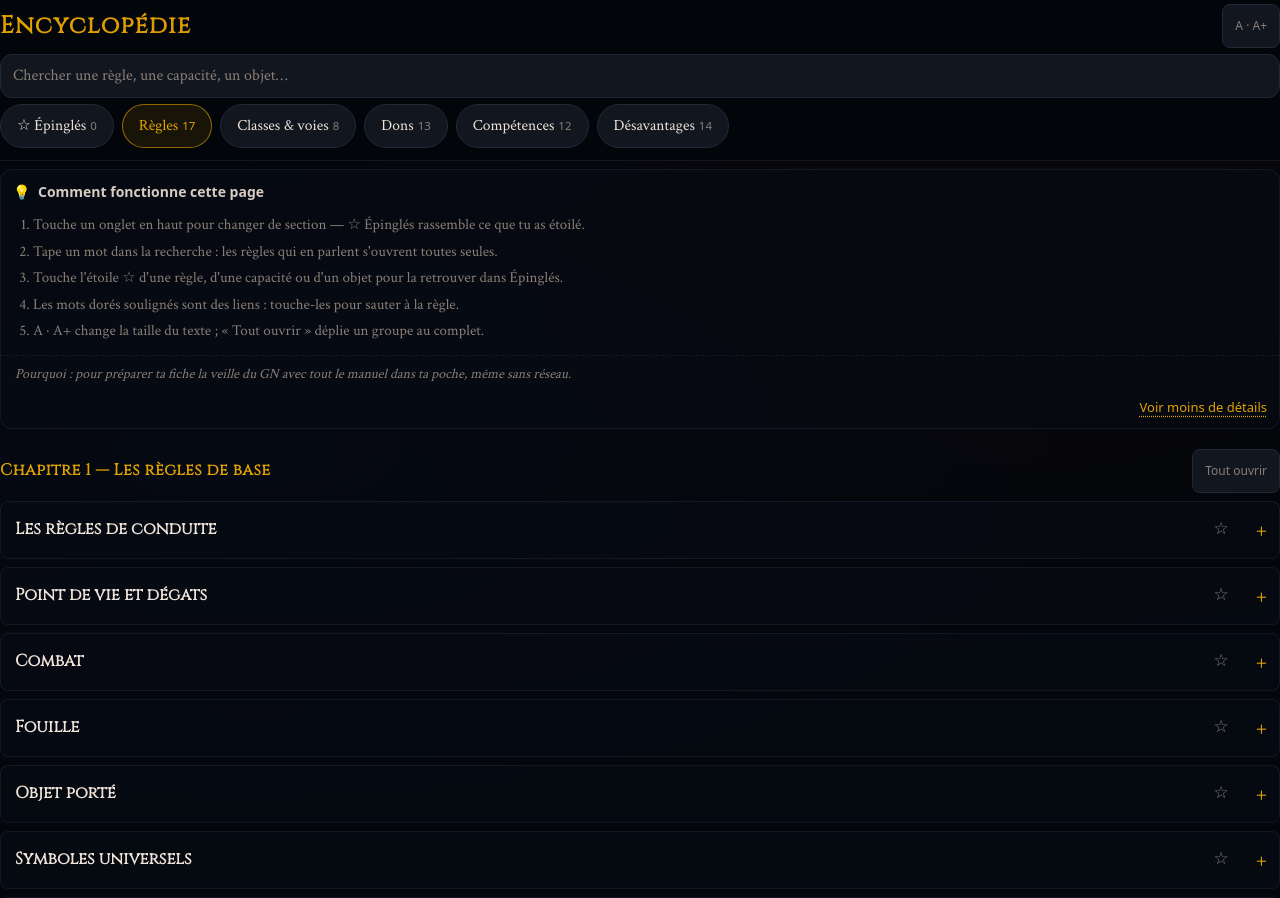
it: recherche › sans correspondance, elle le dit
Type "zzzqxw" into the search field at (640, 76), box [0, 54, 1279, 98]
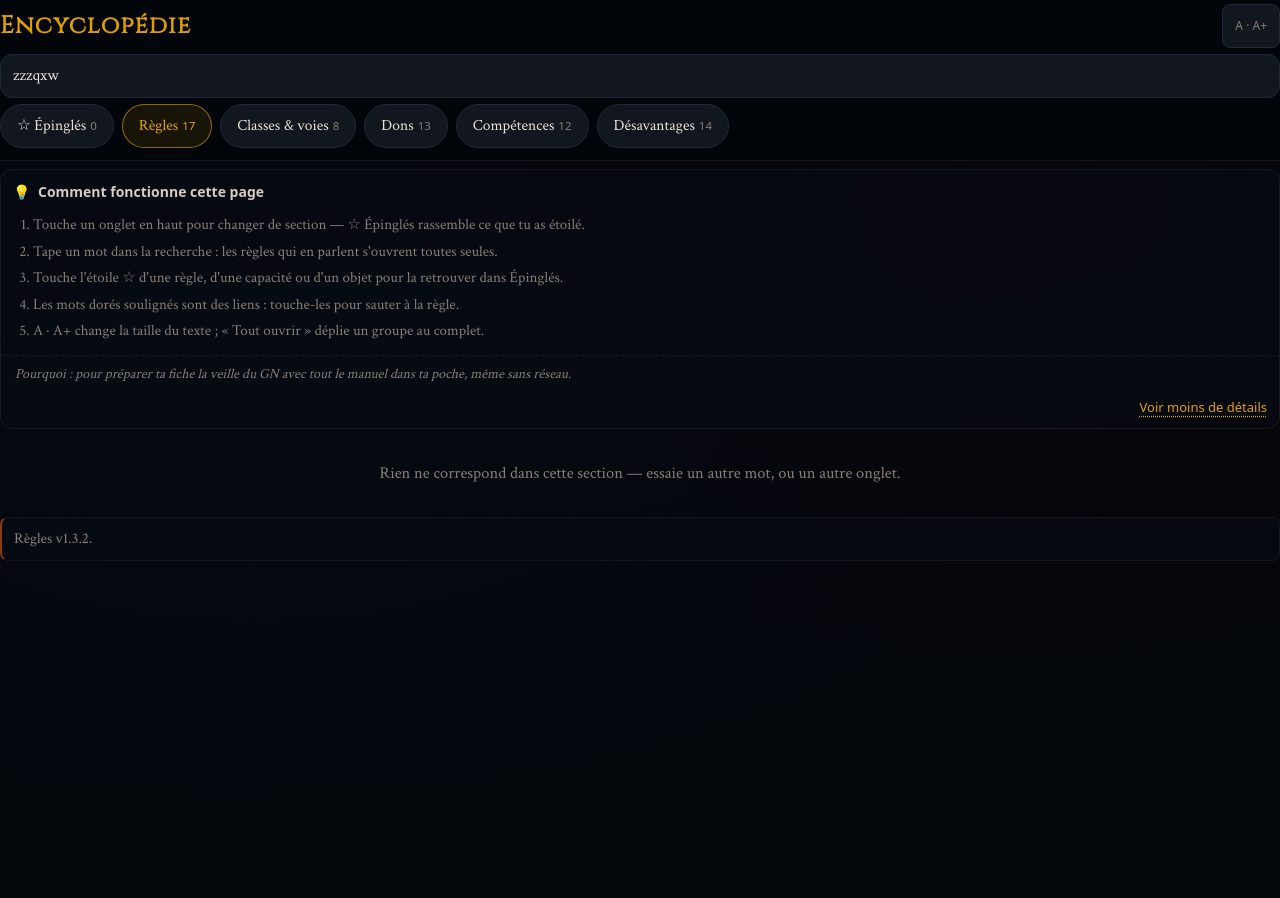
Result: the text "Rien ne correspond" is shown at [380, 462, 900, 484]
